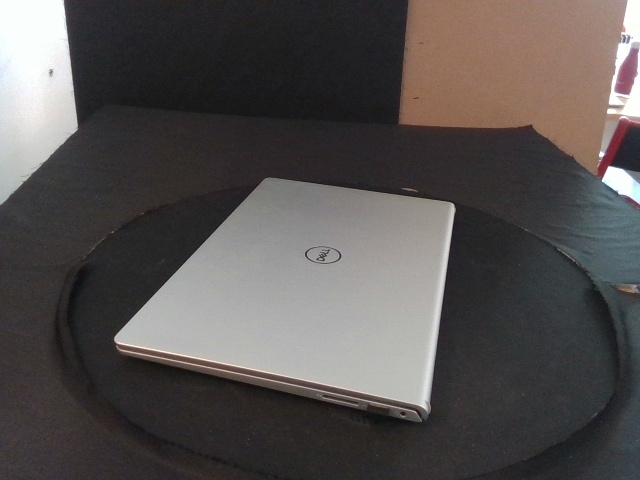laptop: (113, 176, 456, 425)
